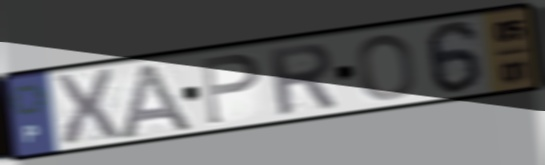6: (424, 19, 484, 96)
A: (114, 59, 196, 142)
O: (355, 31, 419, 102)
P: (199, 51, 263, 127)
R: (264, 40, 340, 118)
X: (52, 66, 124, 150)
